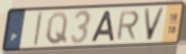3: (70, 9, 93, 46)
A: (89, 10, 116, 44)
I: (32, 10, 44, 48)
Q: (45, 11, 69, 46)
R: (115, 10, 141, 42)
V: (142, 6, 167, 42)
